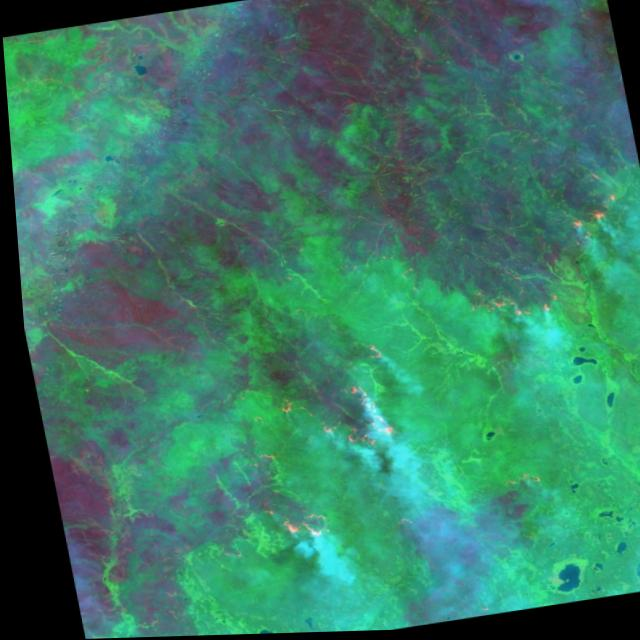fire: (251, 336, 420, 467), (446, 270, 567, 336), (239, 487, 331, 558), (545, 176, 629, 243)
